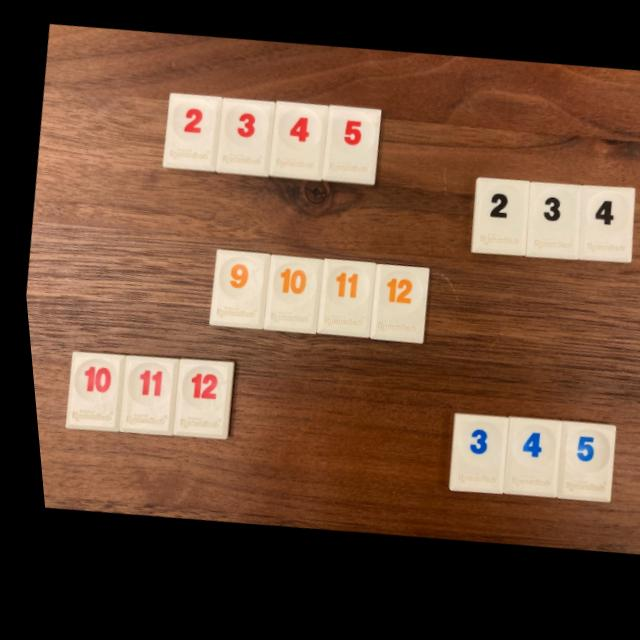black_2: (465, 188, 526, 265)
black_3: (519, 192, 577, 270)
black_4: (572, 197, 629, 275)
blue_3: (438, 421, 500, 503)
blue_4: (492, 426, 552, 507)
blue_5: (547, 431, 607, 513)
orange_10: (257, 261, 318, 339)
orange_11: (310, 266, 370, 344)
orange_12: (363, 271, 422, 351)
orange_9: (203, 253, 265, 334)
red_10: (57, 353, 118, 433)
red_11: (111, 359, 172, 438)
red_12: (164, 361, 227, 442)
red_2: (159, 96, 220, 175)
red_3: (212, 103, 273, 182)
red_4: (265, 106, 325, 187)
red_5: (317, 112, 379, 192)
